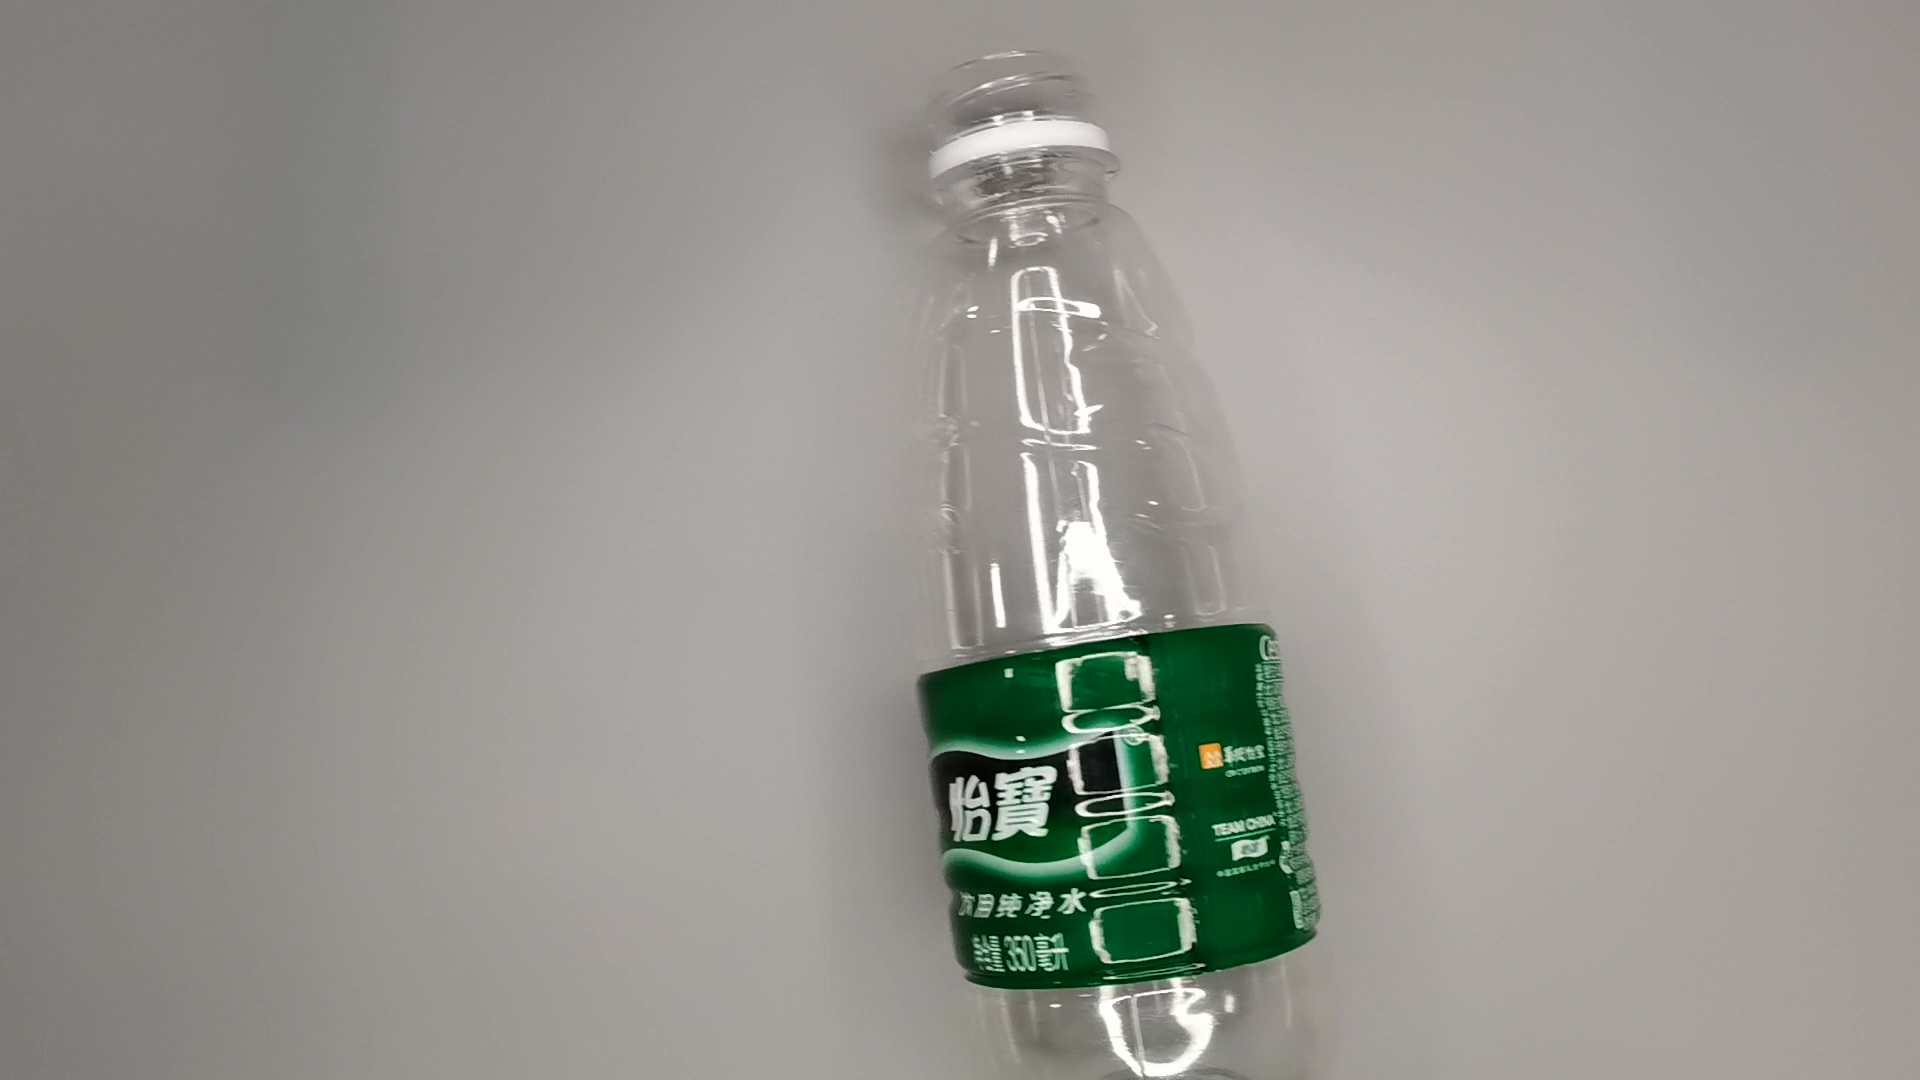bottle: (895, 41, 1367, 1080)
